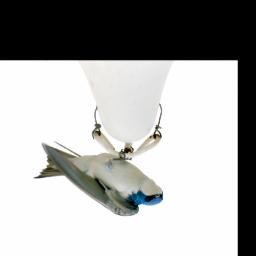Swallow: (32, 138, 164, 217)
